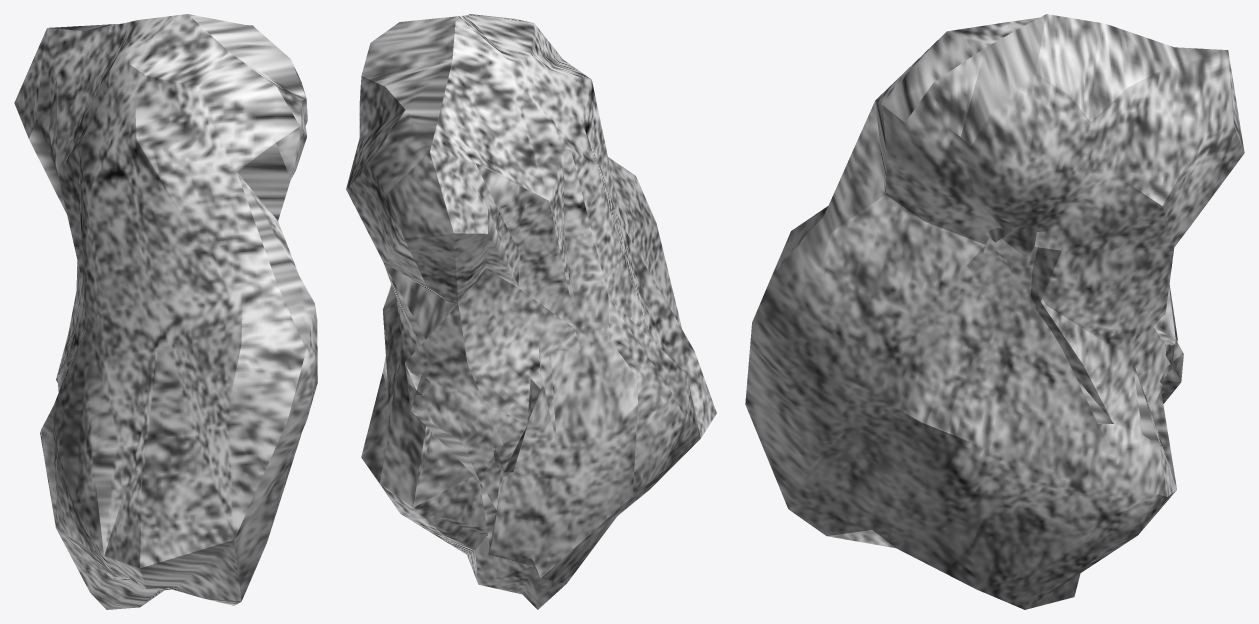
File: Rock_Asset_04.fbx
3 views of the same model, side by side, from view 1: azimuth 30°, elevation 25°; view 2: azimuth 150°, elevation 25°; view 3: azimuth 270°, elevation 25° (orthographic). The views are drawn at different scales.
Visible parts, largest first — view 1: Rock_Asset; view 2: Rock_Asset; view 3: Rock_Asset.
Part boxes in pixels (x1,y1,x2,y2): Rock_Asset: [14, 14, 317, 609]; Rock_Asset: [346, 14, 716, 609]; Rock_Asset: [745, 14, 1244, 609].
Size of the model in its own units: 0.9526 by 1.9 by 1.37.
1 material, 1 textured.
